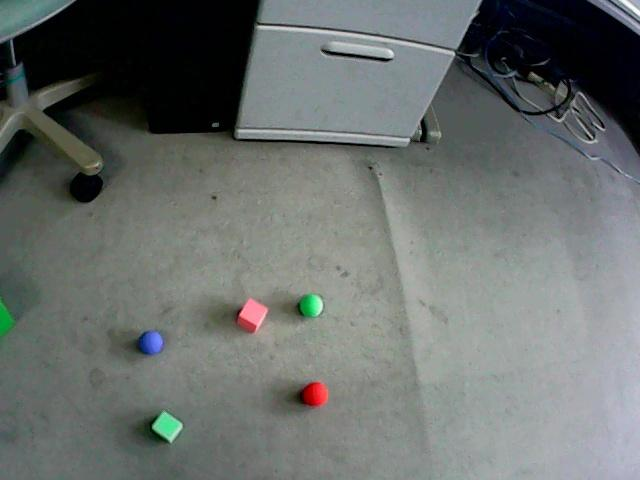red_block: (237, 299, 267, 332)
